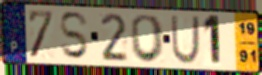1: (201, 14, 223, 69)
2: (99, 12, 131, 63)
7: (27, 9, 55, 60)
O: (130, 13, 167, 64)
S: (58, 10, 90, 62)
U: (170, 14, 202, 66)
